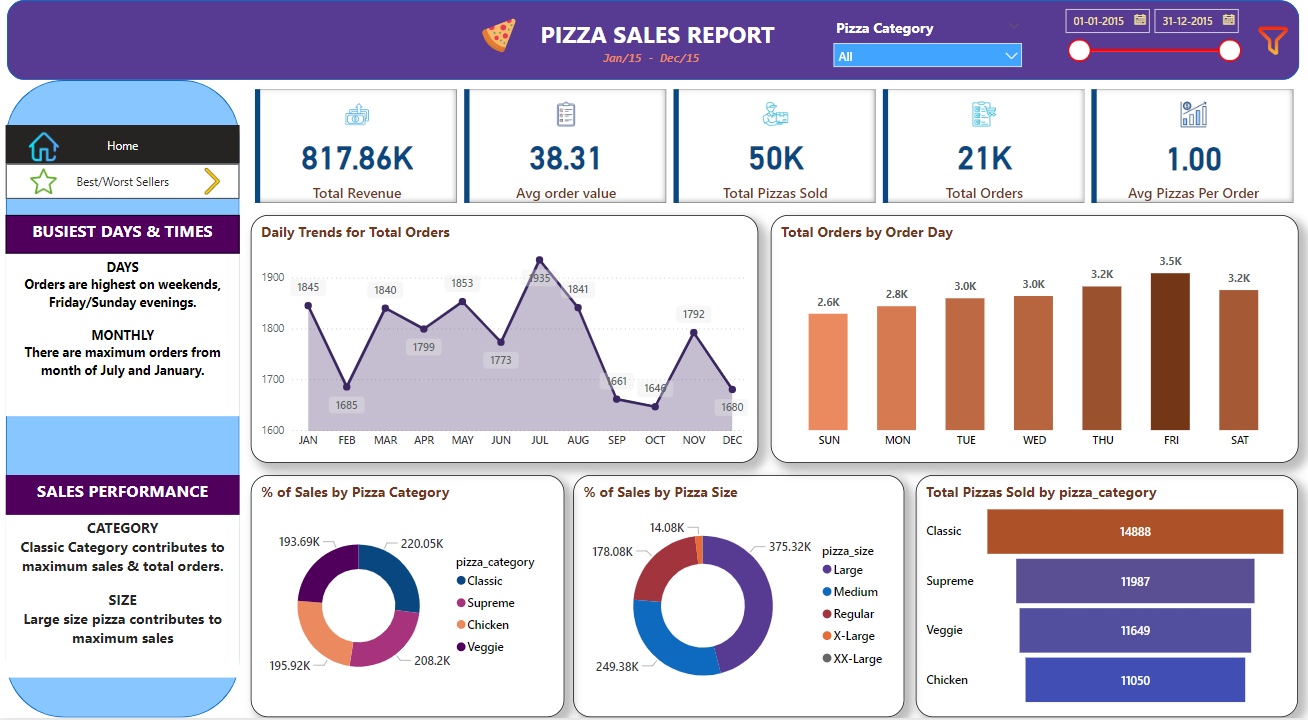

The dashboard page shown, as its layout file describes it:
{"tool":"powerbi","page":{"name":"Home","canvas":[1500,820],"ordinal":0},"visuals":[{"type":"cardVisual","fields":{"Data":["pizza_sales.Total Revenue","pizza_sales.Avg order value","pizza_sales.Total Pizzas Sold","pizza_sales.Total Orders","pizza_sales.Avg Pizzas Per Order"]},"box":[290,97.1,1197.1,140],"z":0},{"type":"shape","box":[11.4,0,1477.1,91.4],"z":1000},{"type":"textbox","box":[607.1,15.7,295.7,64.3],"z":2000},{"type":"textbox","box":[648.6,51.4,197.1,40],"z":3000},{"type":"image","box":[540,15.7,67.1,50],"z":4000},{"type":"columnChart","fields":{"Category":["pizza_sales.Order Day"],"Y":["pizza_sales.Total Orders"]},"box":[884.3,245.7,602.9,282.9],"z":5000},{"type":"areaChart","title":"Daily Trends for Total Orders","fields":{"Category":["pizza_sales.Order Month"],"Y":["pizza_sales.Total Orders"]},"box":[290,245.7,580,282.9],"z":6000},{"type":"donutChart","title":"% of Sales by Pizza Category","fields":{"Category":["pizza_sales.pizza_category"],"Y":["pizza_sales.Total Revenue"]},"box":[290,542.9,358.6,277.1],"z":7000},{"type":"funnel","fields":{"Category":["pizza_sales.pizza_category"],"Y":["pizza_sales.Total Pizzas Sold"]},"box":[1050,542.9,437.1,277.1],"z":8000},{"type":"donutChart","title":"% of Sales by Pizza Size","fields":{"Category":["pizza_sales.pizza_size"],"Y":["pizza_sales.Total Revenue"]},"box":[658.6,542.9,378.6,277.1],"z":9000},{"type":"shape","box":[10,91.4,267.1,728.6],"z":10000},{"type":"textbox","box":[10,245.7,267.1,44.3],"z":11000},{"type":"textbox","box":[10,290,267.1,185.7],"z":12000},{"type":"textbox","box":[10,587.1,267.1,187.1],"z":13000},{"type":"textbox","box":[10,542.9,267.1,45.7],"z":14000},{"type":"slicer","fields":{"Values":["pizza_sales.pizza_category"]},"box":[945.7,15.7,235.7,91.4],"z":15000},{"type":"slicer","fields":{"Values":["pizza_sales.order_date"]},"box":[1208.6,0,221.4,91.4],"z":16000},{"type":"image","box":[1430,0,57.1,91.4],"z":17000},{"type":"pageNavigator","box":[10,142.9,267.1,44.3],"z":19000},{"type":"pageNavigator","box":[10,187.1,267.1,40],"z":20000},{"type":"image","box":[30,145.7,47.1,44.3],"z":20001},{"type":"image","box":[30,187.1,47.1,40],"z":20002},{"type":"image","box":[224.3,187.1,42.9,40],"z":20003}]}

Visuals, with their boxes in screenshot pixels (x1, y1, x2, y2), scaled from the page's 1500x820 canvas onto the 1308x720 screenshot:
cardVisual - pizza_sales.Total Revenue x pizza_sales.Avg order value: 253/85/1297/208
shape: 10/0/1298/80
textbox: 529/14/787/70
textbox: 566/45/737/80
image: 471/14/529/58
columnChart - pizza_sales.Order Day x pizza_sales.Total Orders: 771/216/1297/464
"Daily Trends for Total Orders" areaChart: 253/216/759/464
"% of Sales by Pizza Category" donutChart: 253/477/566/719
funnel - pizza_sales.pizza_category x pizza_sales.Total Pizzas Sold: 916/477/1297/719
"% of Sales by Pizza Size" donutChart: 574/477/904/719
shape: 9/80/242/719
textbox: 9/216/242/255
textbox: 9/255/242/418
textbox: 9/516/242/680
textbox: 9/477/242/517
slicer - pizza_sales.pizza_category: 825/14/1030/94
slicer - pizza_sales.order_date: 1054/0/1247/80
image: 1247/0/1297/80
pageNavigator: 9/125/242/164
pageNavigator: 9/164/242/199
image: 26/128/67/167
image: 26/164/67/199
image: 196/164/233/199
